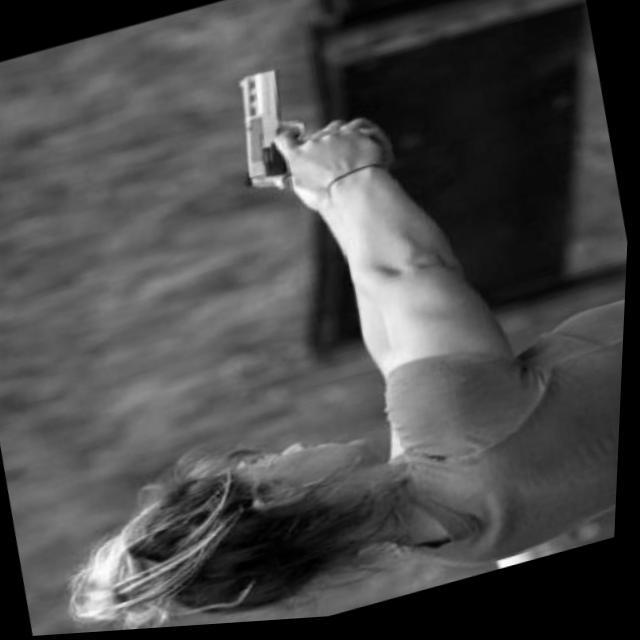weapon: (218, 60, 326, 208)
